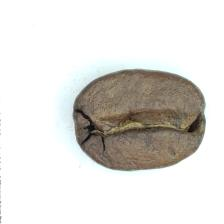NG: (82, 90, 202, 150)
